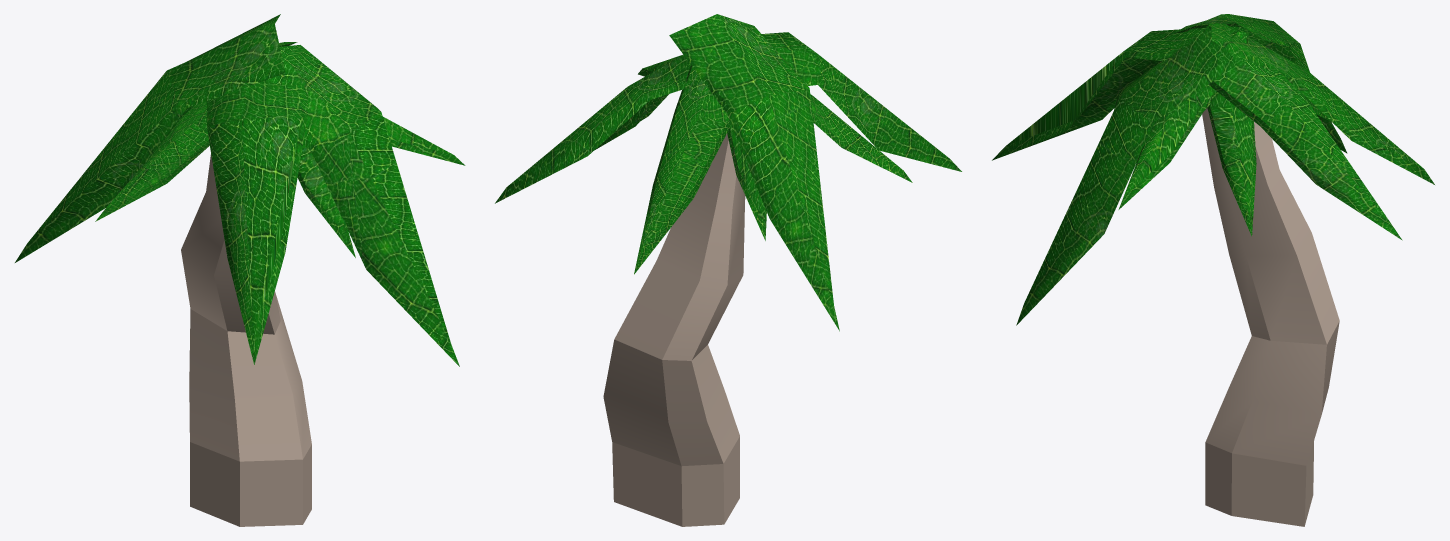
File: PalmTree2.fbx
3 views of the same model, side by side, from view 1: azimuth 30°, elevation 25°; view 2: azimuth 150°, elevation 25°; view 3: azimuth 270°, elevation 25° (orthographic). The views are drawn at different scales.
Visible parts, largest first — view 1: pCube10, pCube18, pCube19, pCube20, pCube15, pCube13, pCube12; view 2: pCube10, pCube20, pCube17, pCube19, pCube16, pCube15, pCube14, pCube11; view 3: pCube10, pCube18, pCube16, pCube19, pCube17, pCube11, pCube12, pCube20.
Part boxes in pixels (x1,y1,x2,y2): pCube10: [181, 154, 311, 526]; pCube18: [268, 45, 459, 366]; pCube19: [206, 79, 308, 364]; pCube20: [15, 14, 285, 262]; pCube15: [95, 100, 209, 221]; pCube13: [297, 144, 355, 257]; pCube12: [383, 117, 465, 165]; pCube10: [603, 133, 745, 526]; pCube20: [669, 14, 839, 331]; pCube17: [634, 65, 730, 274]; pCube19: [762, 32, 961, 171]; pCube16: [495, 55, 690, 203]; pCube15: [810, 94, 912, 182]; pCube14: [727, 125, 766, 240]; pCube11: [595, 94, 668, 149]; pCube10: [1202, 108, 1339, 526]; pCube18: [1016, 27, 1237, 325]; pCube16: [1208, 49, 1402, 240]; pCube19: [992, 26, 1277, 160]; pCube17: [1206, 22, 1434, 184]; pCube11: [1188, 31, 1256, 236]; pCube12: [1118, 84, 1212, 209]; pCube20: [1173, 14, 1347, 153].
Size of the model in its own units: 1.17 by 1.68 by 1.39.
